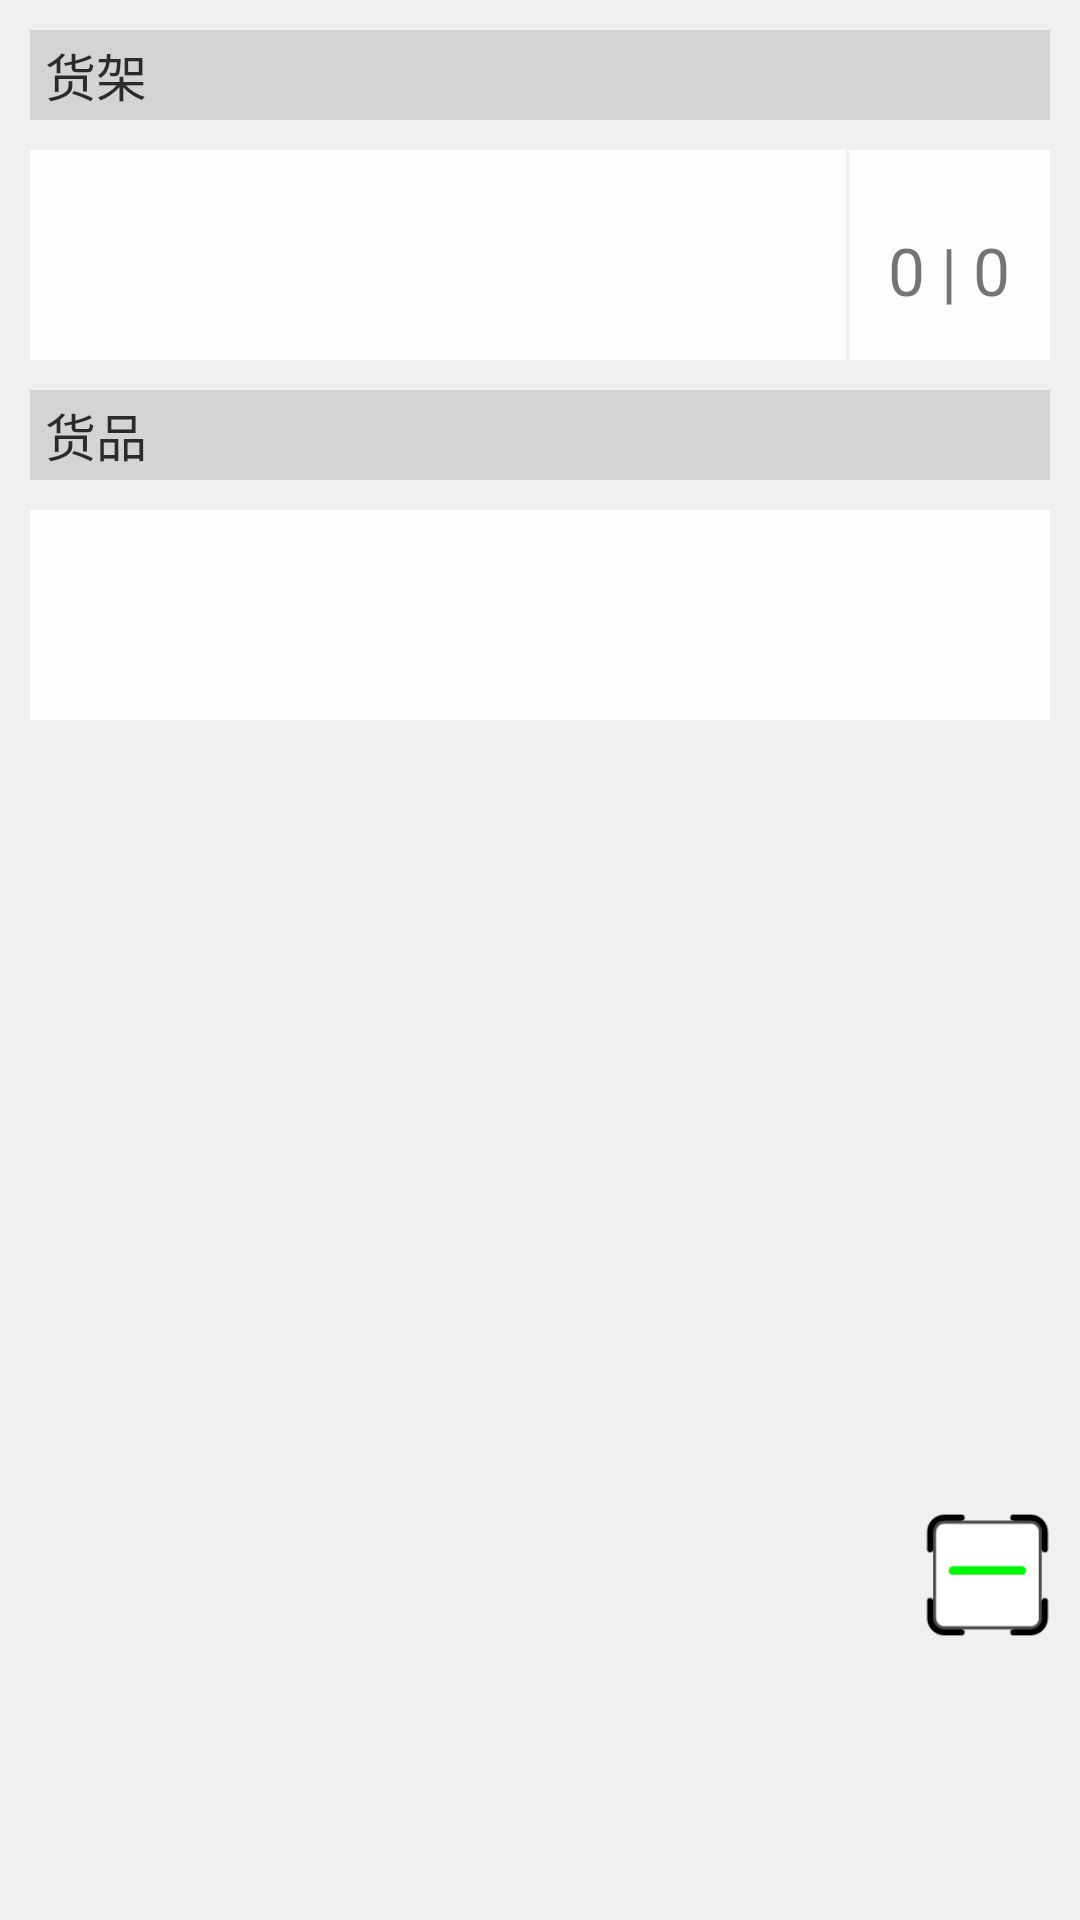

Icon bounding boxes for this 1080 x 1920 phone screenshot, format bbox=(x1, y1, x2, y2):
scan: bbox=(926, 1514, 1049, 1636)
